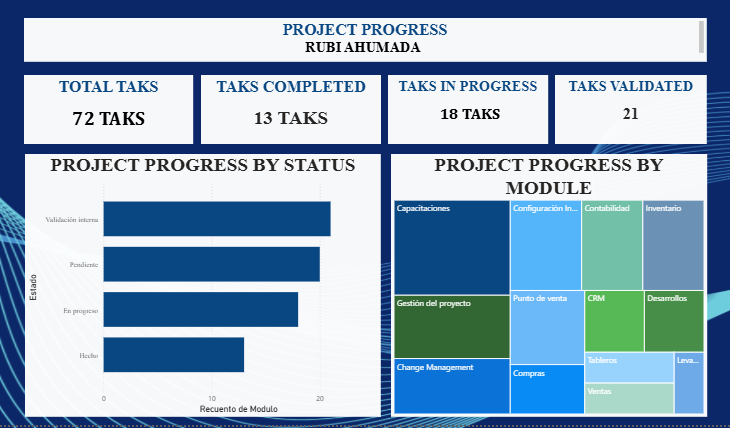

What the dashboard file says about the page in this screenshot:
{"tool":"powerbi","page":{"name":" Project Progress Visual","canvas":[1280,720],"ordinal":2},"visuals":[{"type":"textbox","box":[960,136.7,253.3,115],"z":0},{"type":"textbox","box":[681.7,136.7,266.7,115],"z":1000},{"type":"textbox","box":[370,136.7,300,115],"z":2000},{"type":"textbox","box":[75,136.7,281.7,115],"z":3000},{"type":"clusteredBarChart","title":"PROJECT PROGRESS BY STATUS","fields":{"Y":["CountNonNull(Hoja 1.Modulo)"],"Category":["Hoja 1.Estado"]},"box":[76.7,268.3,593.3,438.3],"z":4000},{"type":"treemap","title":"PROJECT PROGRESS BY MODULE","fields":{"Group":["Hoja 1.Modulo"],"Values":["CountNonNull(Hoja 1.Estado)"]},"box":[686.7,268.3,526.7,438.3],"z":5000},{"type":"textbox","box":[75,41.7,1138.3,73.3],"z":6000}]}

Visuals, with their boxes in screenshot pixels (x1, y1, x2, y2):
textbox: 556, 73, 709, 143
textbox: 387, 73, 549, 143
textbox: 199, 73, 380, 143
textbox: 21, 73, 191, 143
"PROJECT PROGRESS BY STATUS" clusteredBarChart: 22, 153, 380, 418
"PROJECT PROGRESS BY MODULE" treemap: 390, 153, 709, 418
textbox: 21, 16, 709, 60
